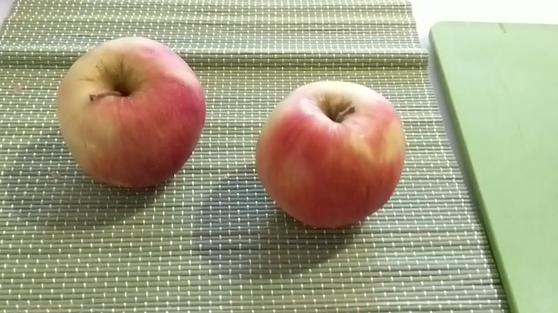apple: (55, 35, 207, 190), (255, 80, 408, 229)
